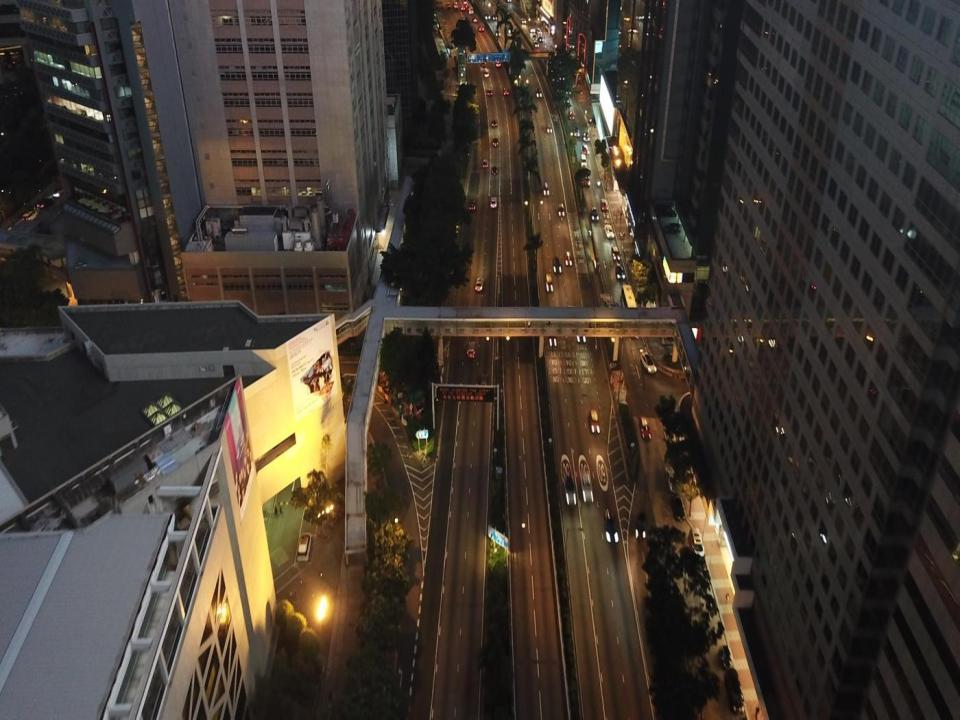bus: (620, 284, 642, 337)
car: (603, 510, 618, 544), (665, 466, 680, 493), (581, 472, 594, 503), (671, 494, 685, 522), (640, 352, 657, 373), (720, 644, 733, 670), (564, 476, 576, 504), (589, 408, 601, 435), (639, 417, 650, 439), (576, 322, 586, 344), (551, 256, 562, 274), (36, 198, 54, 208), (615, 263, 625, 280), (604, 223, 615, 238), (548, 329, 556, 346), (590, 207, 599, 221), (52, 188, 67, 196), (475, 277, 484, 290), (564, 251, 572, 265), (542, 182, 550, 195), (600, 198, 608, 211), (612, 247, 620, 260), (558, 203, 565, 217), (582, 130, 590, 142), (583, 173, 590, 186), (506, 22, 514, 33), (468, 199, 476, 209), (535, 87, 542, 98), (546, 124, 553, 134), (582, 144, 589, 154), (568, 110, 575, 120), (494, 28, 502, 36), (490, 198, 497, 207), (562, 93, 569, 102), (492, 164, 498, 174), (572, 127, 578, 137), (558, 70, 564, 80), (484, 68, 491, 76), (502, 88, 510, 95), (494, 57, 500, 66), (492, 138, 498, 147), (565, 85, 571, 94), (486, 89, 493, 96), (536, 27, 542, 35), (528, 26, 536, 32), (491, 121, 497, 128), (482, 160, 488, 167), (533, 40, 539, 47), (478, 26, 484, 32), (462, 0, 468, 6), (481, 60, 486, 67), (521, 17, 526, 24), (537, 36, 544, 41), (453, 2, 458, 8), (485, 13, 490, 19), (492, 14, 497, 19), (472, 18, 478, 22), (460, 6, 465, 10), (446, 3, 450, 7)
van: (725, 668, 744, 714), (688, 526, 705, 556), (297, 534, 312, 562), (635, 508, 647, 539), (22, 209, 38, 222), (545, 274, 554, 292), (466, 341, 475, 358), (580, 154, 588, 167), (530, 33, 537, 40), (468, 7, 474, 15)
